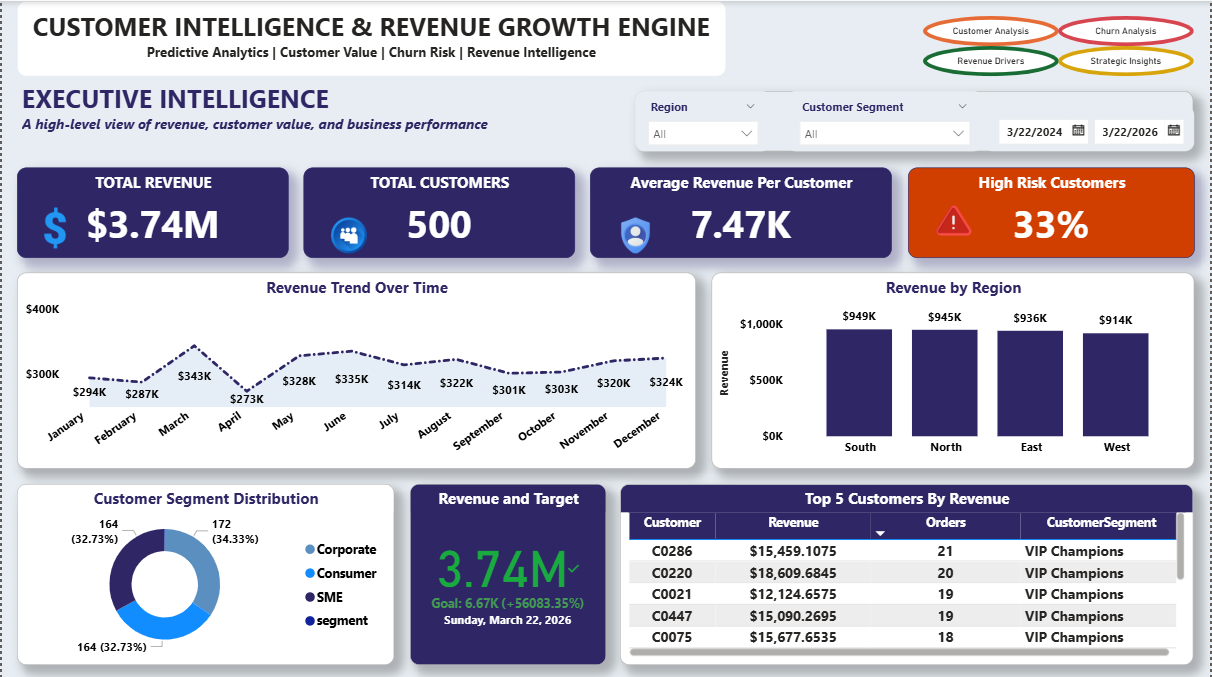

What the dashboard file says about the page in this screenshot:
{"tool":"powerbi","page":{"name":"Executive Intelligence","canvas":[1280,720],"ordinal":0},"visuals":[{"type":"textbox","box":[16,0,752,80],"z":0},{"type":"textbox","box":[16,80,544,80],"z":1000},{"type":"card","title":"TOTAL REVENUE","fields":{"Values":["orders.Revenue"]},"box":[16,176,288,96],"z":2000},{"type":"card","title":"TOTAL CUSTOMERS","fields":{"Values":["Count(Customer Summary.customer_id)"]},"box":[320,176,288,96],"z":3000},{"type":"card","title":"Average Revenue Per Customer","fields":{"Values":["customers (1).Avg Revenue Per Customer"]},"box":[624,176,320,96],"z":4000},{"type":"card","title":"High Risk Customers","fields":{"Values":["Customer Summary.% High Risk Customers"]},"box":[960,176,304,96],"z":5000},{"type":"stackedAreaChart","title":"Revenue Trend Over Time","fields":{"Y":["orders.Revenue"],"Category":["Date Table.Date.Variation.Date Hierarchy.Month"]},"box":[16,288,720,208],"z":6000},{"type":"clusteredColumnChart","title":"Revenue by Region","fields":{"Y":["orders.Revenue"],"Category":["orders.region"]},"box":[752,288,512,208],"z":7000},{"type":"donutChart","title":"Customer Segment Distribution","fields":{"Category":["customers (1).segment"],"Y":["CountNonNull(customers (1).customer_id)"]},"box":[16,512,400,192],"z":8000},{"type":"kpi","title":"Revenue and Target","fields":{"TrendLine":["orders.order_date"],"Goal":["customers (1).Target Revenue"],"Indicator":["customers (1).Customer Revenue"]},"box":[432,512,208,192],"z":9000},{"type":"tableEx","title":"Top 5 Customers By Revenue","fields":{"Values":["customers (1).customer_id","orders.Revenue","orders.Total Orders","Customer Summary.CustomerSegment"]},"box":[656,512,608,192],"z":10000},{"type":"image","box":[16,208,80,64],"z":11000},{"type":"textbox","box":[672,96,592,64],"z":12000},{"type":"slicer","fields":{"Values":["customers (1).segment"]},"box":[832,96,208,64],"z":13000},{"type":"slicer","fields":{"Values":["orders.order_date"]},"box":[1040,112,224,48],"z":14000},{"type":"slicer","fields":{"Values":["orders.region"]},"box":[672,96,144,64],"z":15000},{"type":"image","box":[640,224,64,48],"z":16000},{"type":"image","box":[976,208,64,48],"z":17000},{"type":"image","box":[336,224,64,48],"z":18000},{"type":"actionButton","box":[976,16,144,32],"z":19000},{"type":"actionButton","box":[1120,16,144,32],"z":20000},{"type":"actionButton","box":[1120,48,144,32],"z":21000},{"type":"actionButton","box":[976,48,144,32],"z":22000}]}

Visuals, with their boxes in screenshot pixels (x1, y1, x2, y2), scaled from the page's 1280x720 canvas onto the 1212x677 screenshot:
textbox: region(15, 0, 727, 75)
textbox: region(15, 75, 530, 150)
"TOTAL REVENUE" card: region(15, 165, 288, 256)
"TOTAL CUSTOMERS" card: region(303, 165, 576, 256)
"Average Revenue Per Customer" card: region(591, 165, 894, 256)
"High Risk Customers" card: region(909, 165, 1197, 256)
"Revenue Trend Over Time" stackedAreaChart: region(15, 271, 697, 466)
"Revenue by Region" clusteredColumnChart: region(712, 271, 1197, 466)
"Customer Segment Distribution" donutChart: region(15, 481, 394, 662)
"Revenue and Target" kpi: region(409, 481, 606, 662)
"Top 5 Customers By Revenue" tableEx: region(621, 481, 1197, 662)
image: region(15, 196, 91, 256)
textbox: region(636, 90, 1197, 150)
slicer - customers (1).segment: region(788, 90, 985, 150)
slicer - orders.order_date: region(985, 105, 1197, 150)
slicer - orders.region: region(636, 90, 773, 150)
image: region(606, 211, 667, 256)
image: region(924, 196, 985, 241)
image: region(318, 211, 379, 256)
actionButton: region(924, 15, 1060, 45)
actionButton: region(1060, 15, 1197, 45)
actionButton: region(1060, 45, 1197, 75)
actionButton: region(924, 45, 1060, 75)
